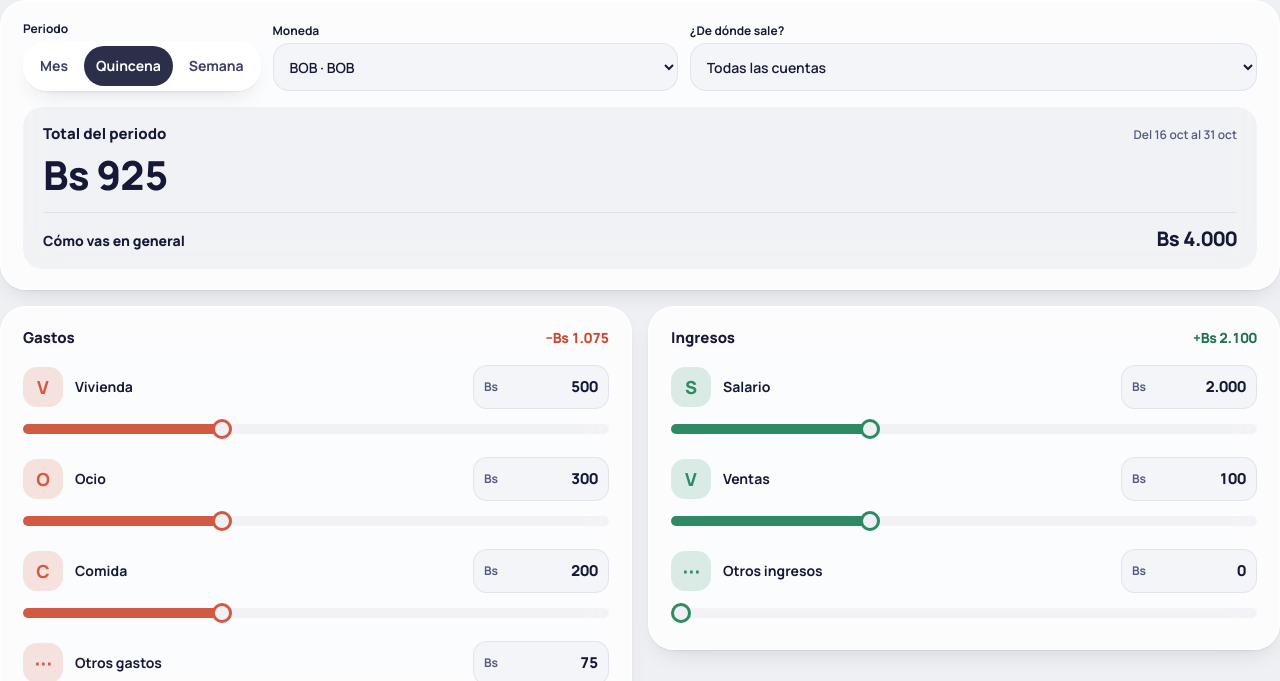
Scenario: What If? simulator › refreshes the base with the API 500 ms after the last move
Set the slider labelled "Ocio" to "50": (126, 521) [23,505,609,537]
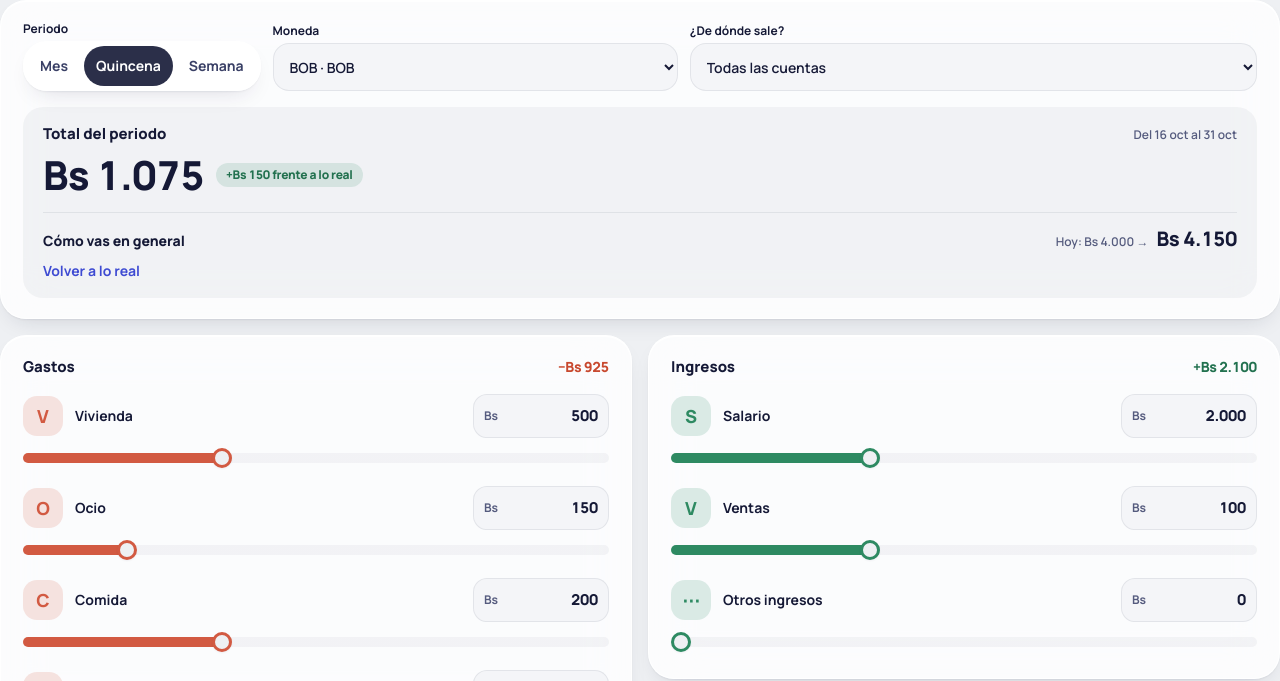
Set the slider labelled "Ocio" to "0": (31, 550) [23,534,609,566]
Wait 500 ms
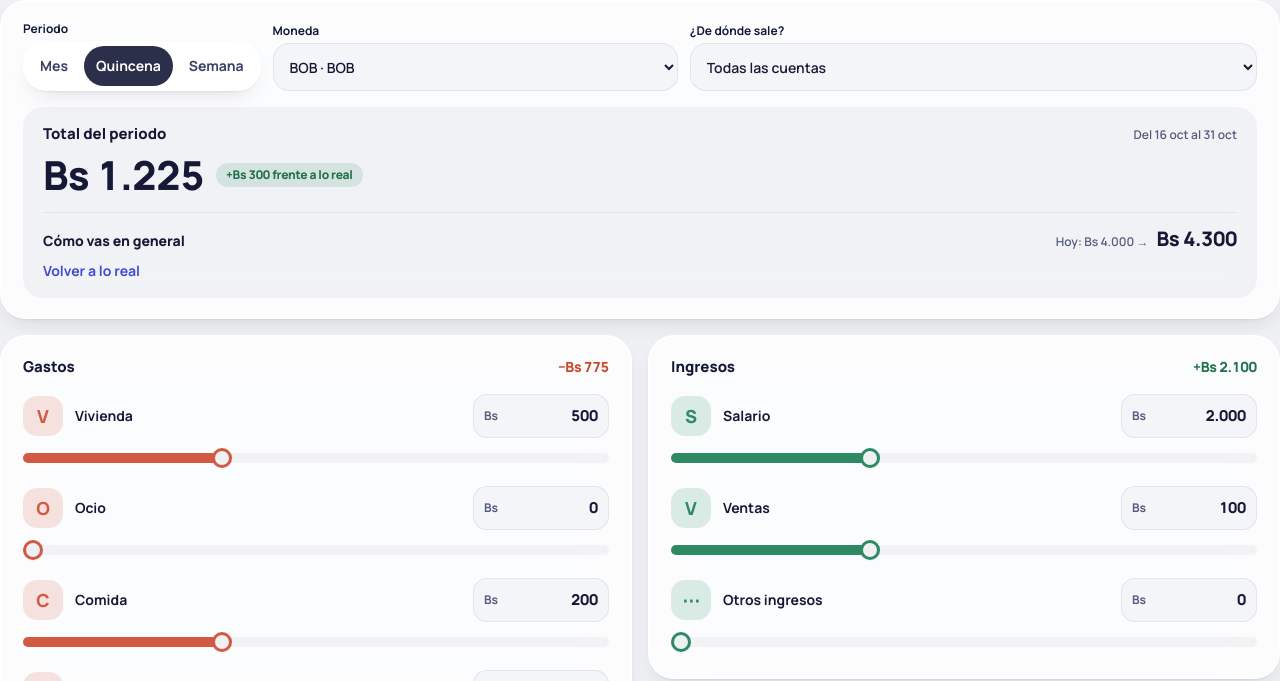
Result: the text with test id "whatif-total-amount" reads "Bs 1.225" at [43,146,204,202]
